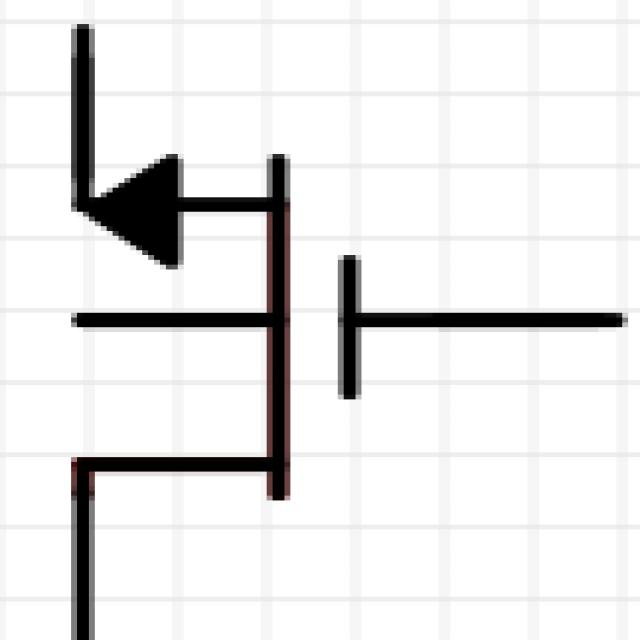pmos: (12, 43, 640, 640)
